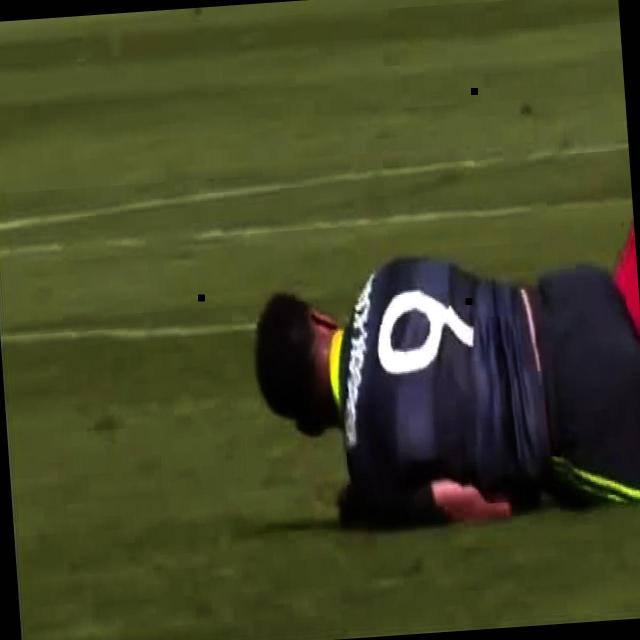player-white: (238, 126, 640, 524), (563, 0, 640, 519)
